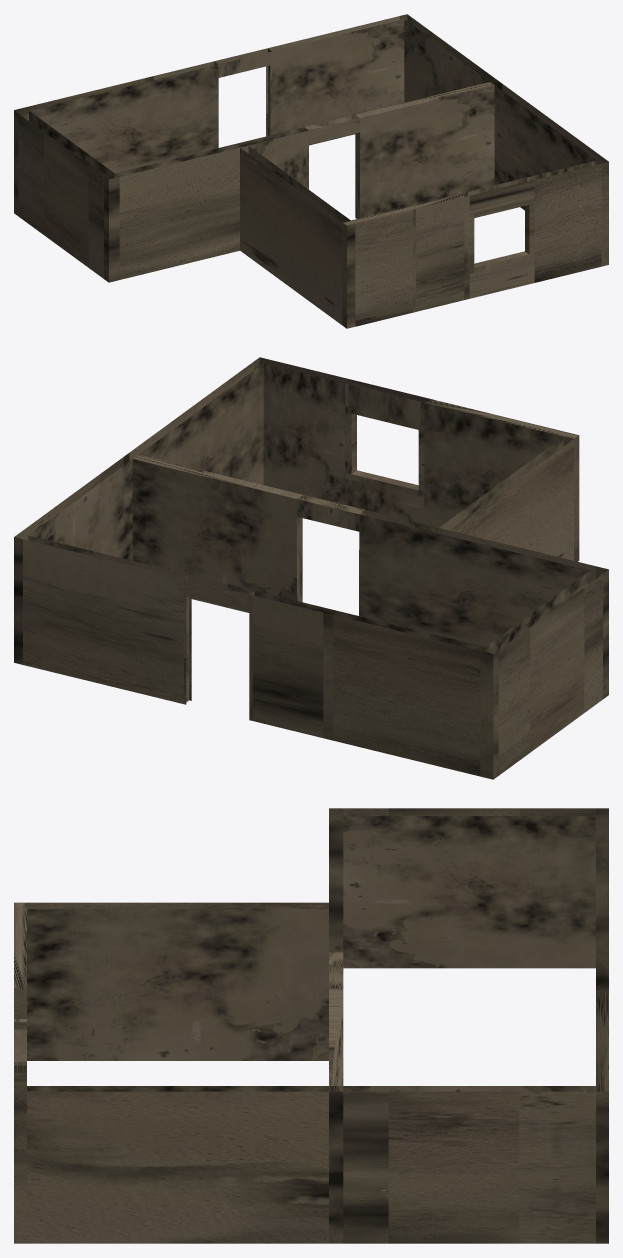
File: wall3.glb
3 views of the same model, one above another, from view 1: azimuth 30°, elevation 25°; view 2: azimuth 150°, elevation 25°; view 3: azimuth 270°, elevation 25° (orthographic). The views are drawn at different scales.
Visible parts, largest first — view 1: walls.006, walls.007, walls.009, walls.002, walls.003, walls.005, walls.001, walls.012, walls.013, walls, walls.011, walls.014; view 2: walls.002, walls.003, walls.006, walls.007, walls.001, walls.009, walls.012, walls.013, walls.005, walls.011, walls.014, walls; view 3: walls.013, walls.005, walls.014, walls.001, walls, walls.009, walls.007, walls.011.
Part boxes in pixels (box(x1,y1,x2,y2)): walls.006: box(109, 127, 308, 282); walls.007: box(355, 82, 494, 217); walls.009: box(342, 192, 469, 328); walls.002: box(14, 61, 218, 173); walls.003: box(268, 14, 407, 145); walls.005: box(240, 146, 350, 324); walls.001: box(18, 111, 114, 278); walls.012: box(530, 160, 601, 282); walls.013: box(494, 84, 608, 210); walls: box(14, 48, 608, 282); walls.011: box(465, 177, 534, 298); walls.014: box(404, 14, 497, 102); walls.002: box(249, 591, 493, 779); walls.003: box(14, 535, 188, 703); walls.006: box(359, 510, 608, 646); walls.007: box(132, 455, 302, 612); walls.001: box(485, 571, 602, 775); walls.009: box(424, 399, 579, 561); walls.012: box(263, 359, 350, 504); walls.013: box(129, 357, 263, 484); walls.005: box(439, 437, 573, 560); walls.011: box(345, 379, 429, 523); walls.014: box(14, 457, 132, 560); walls: box(123, 357, 608, 779); walls.013: box(14, 1086, 328, 1243); walls.005: box(27, 902, 328, 1060); walls.014: box(343, 1086, 608, 1243); walls.001: box(343, 808, 595, 968); walls: box(329, 808, 608, 1243); walls.009: box(14, 902, 26, 1018); walls.007: box(329, 989, 343, 1085); walls.011: box(14, 1019, 26, 1091).
Size of the model in its own units: 25.43 by 6.38 by 22.58.
1 material, 1 textured.
